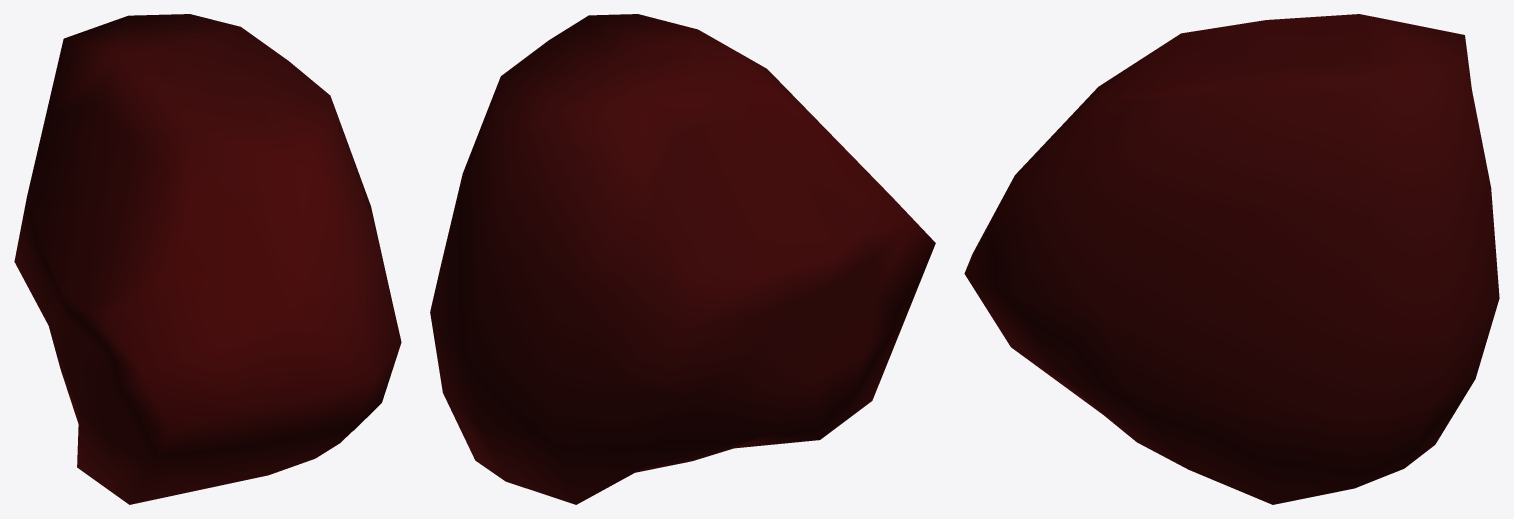
File: geology-pebbles-dirtchunk_v3.fbx
3 views of the same model, side by side, from view 1: azimuth 30°, elevation 25°; view 2: azimuth 150°, elevation 25°; view 3: azimuth 270°, elevation 25° (orthographic). The views are drawn at different scales.
Parts seen in each view (by area): view 1: DirtChunk_v3; view 2: DirtChunk_v3; view 3: DirtChunk_v3.
Boxes of the visible parts, x1,y1,x2,y2 form: DirtChunk_v3: (14, 14, 401, 504); DirtChunk_v3: (430, 14, 935, 504); DirtChunk_v3: (964, 14, 1499, 504).
Size of the model in its own units: 4.65 by 5.53 by 6.62.
